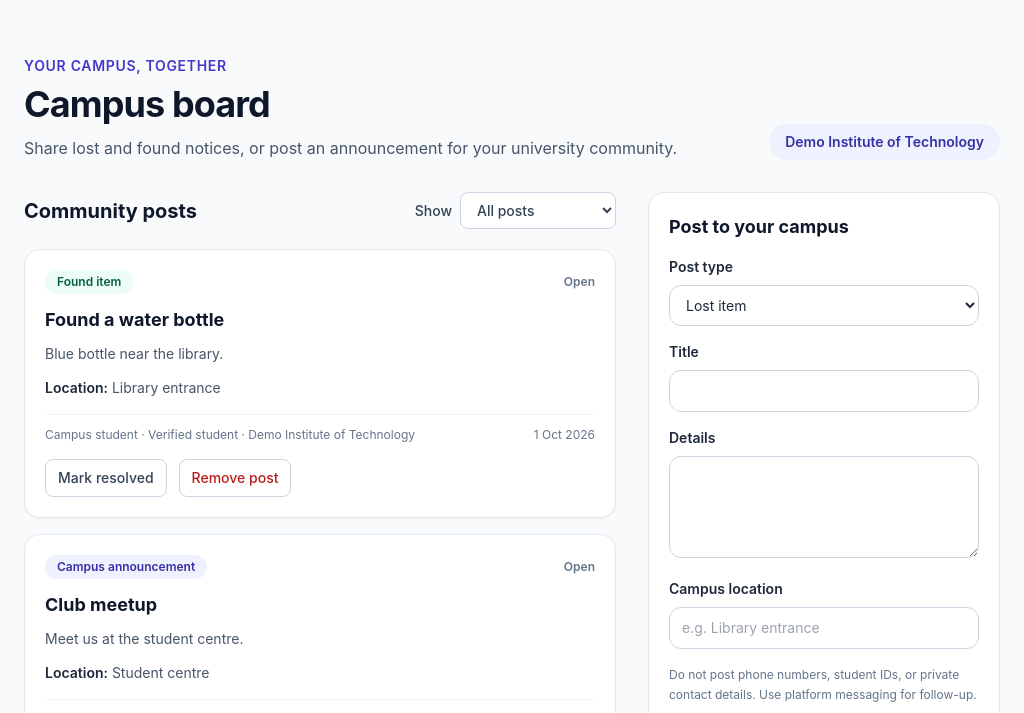
Test: Campus board › loads the signed-in student’s university posts and filters by post type
This screenshot has width=1024, height=713.
Check: the heading "Found a water bottle" is shown, box [45,309,224,330]
Select "Announcements" in the dropdown named "Filter campus posts" at [538, 210], box [460,192,616,229]
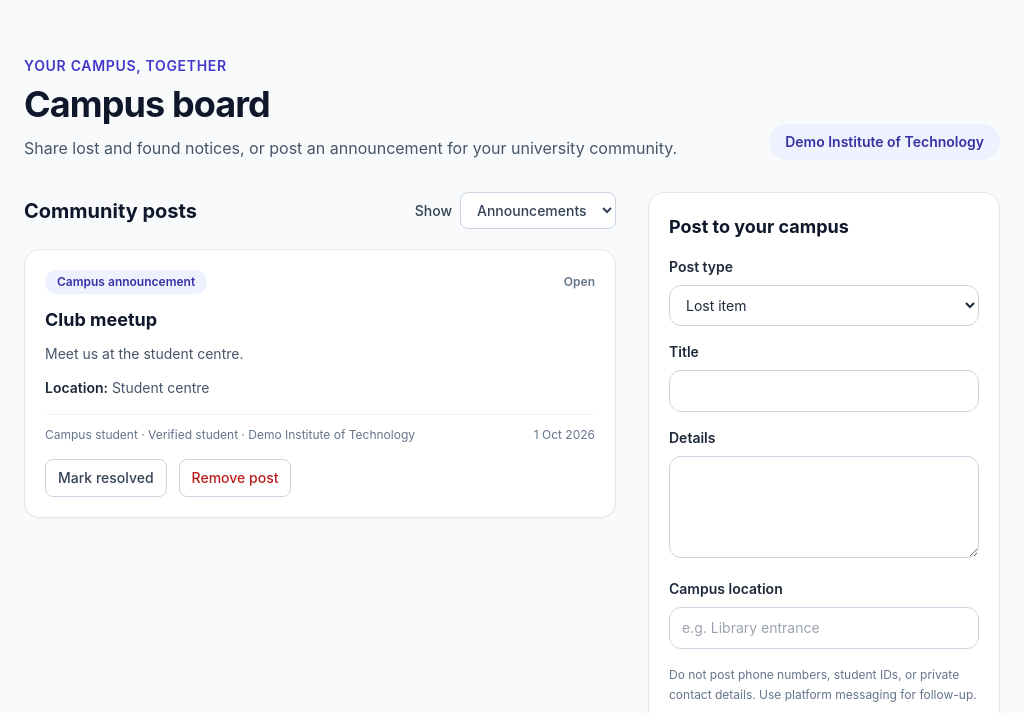
Check: the heading "Club meetup" is shown, box [45,309,157,330]
Check: the heading "Found a water bottle" is gone
